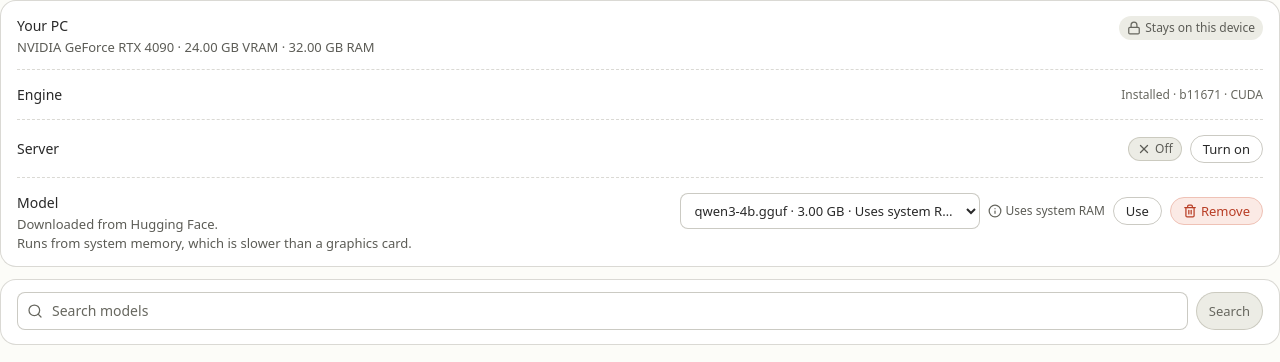
Test: uses plain words for the PC and for each fit, with a sentence per fit
This screenshot has width=1280, height=362.
Expected: the text "Your PC" is shown, [17,16,68,35]
Expected: the text "Stays on this device" is shown, [1119,16,1263,40]
Select "local.gguf · 3.00 GB · Fits your GPU" in the dropdown named "Local model" at (830, 211), box [680,193,980,229]
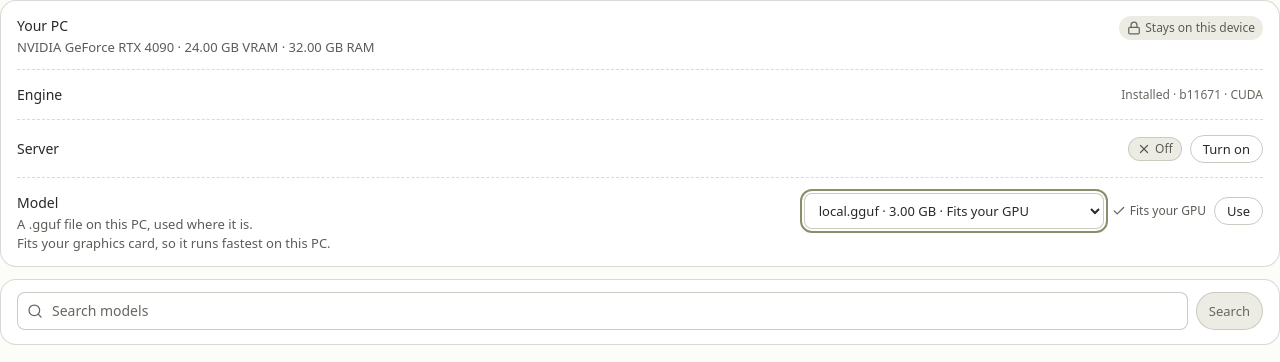
Expected: the text "Fits your graphics card, so it runs fastest on this PC." is shown, [17,234,331,252]
